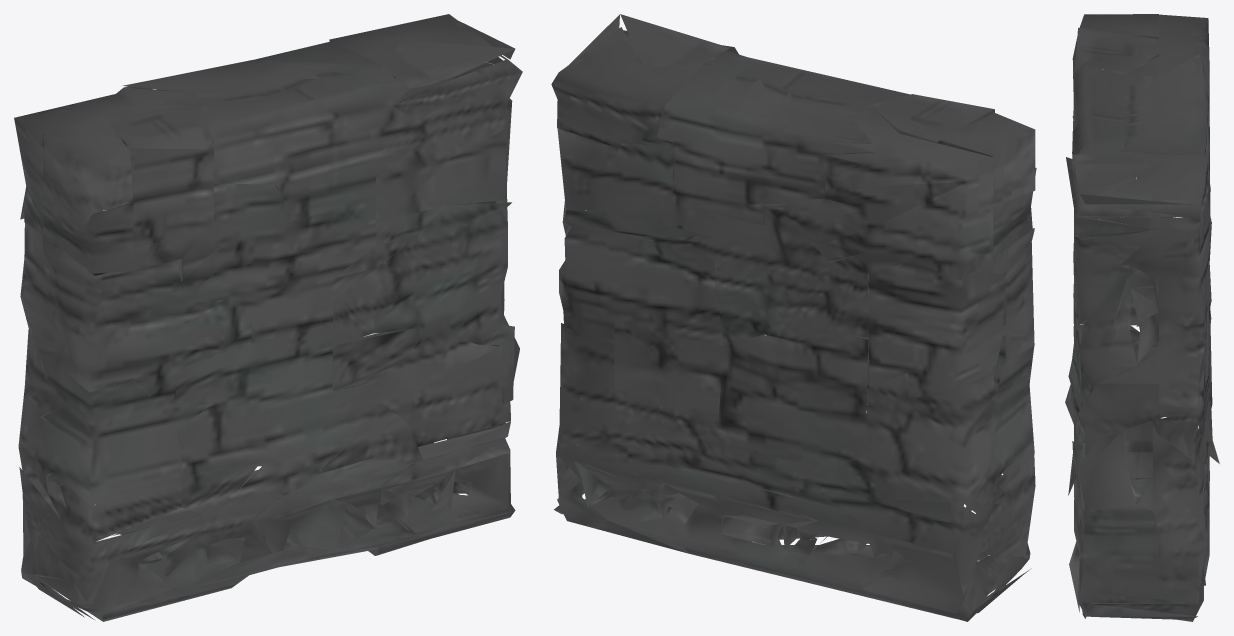
File: dungeon small wall.glb
3 views of the same model, side by side, from view 1: azimuth 30°, elevation 25°; view 2: azimuth 150°, elevation 25°; view 3: azimuth 270°, elevation 25° (orthographic). The views are drawn at different scales.
Visible parts, largest first — view 1: Mesh_0; view 2: Mesh_0; view 3: Mesh_0.
Part boxes in pixels (x1,y1,x2,y2): Mesh_0: [14, 14, 522, 621]; Mesh_0: [551, 14, 1036, 621]; Mesh_0: [1065, 14, 1219, 621].
Size of the model in its own units: 0.32 by 0.3296 by 0.1073.
1 material, 1 textured.
